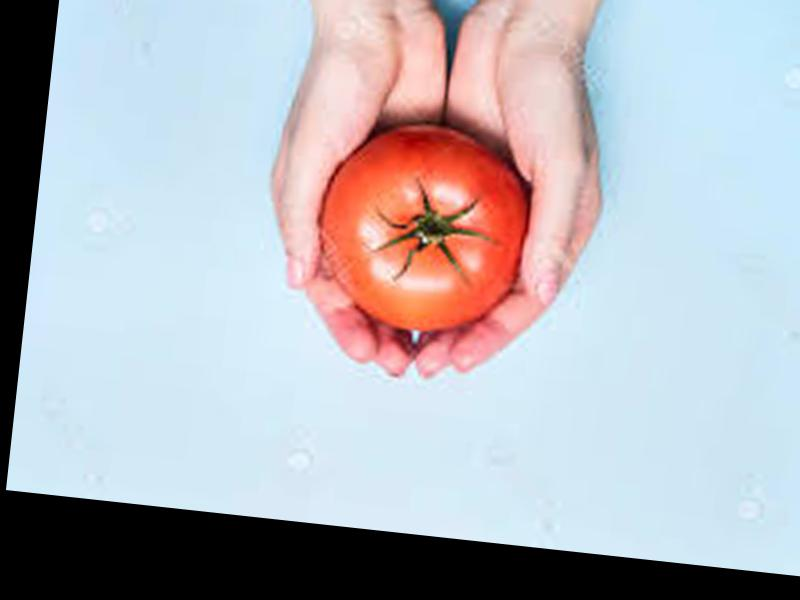Tomato: (310, 116, 541, 341)
